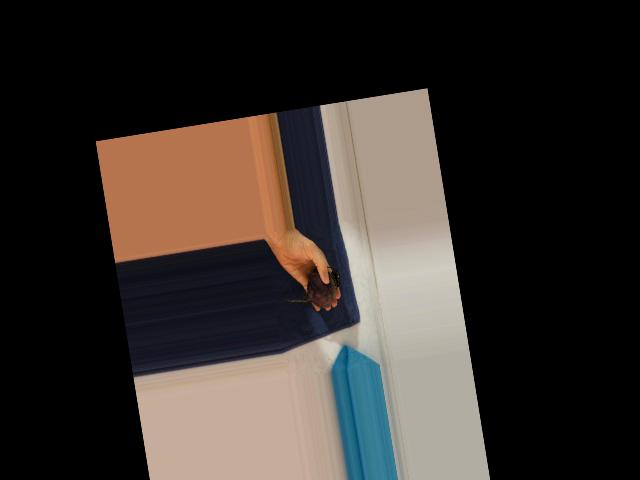beet: (281, 264, 344, 313)
